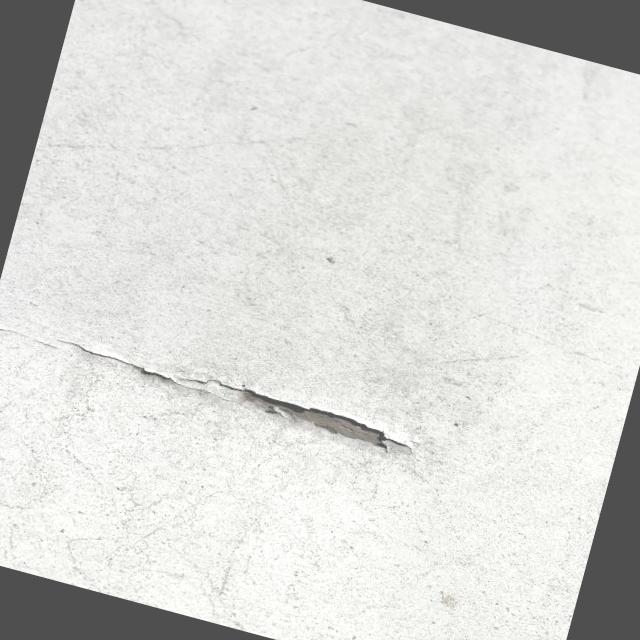crack: (72, 328, 408, 462)
